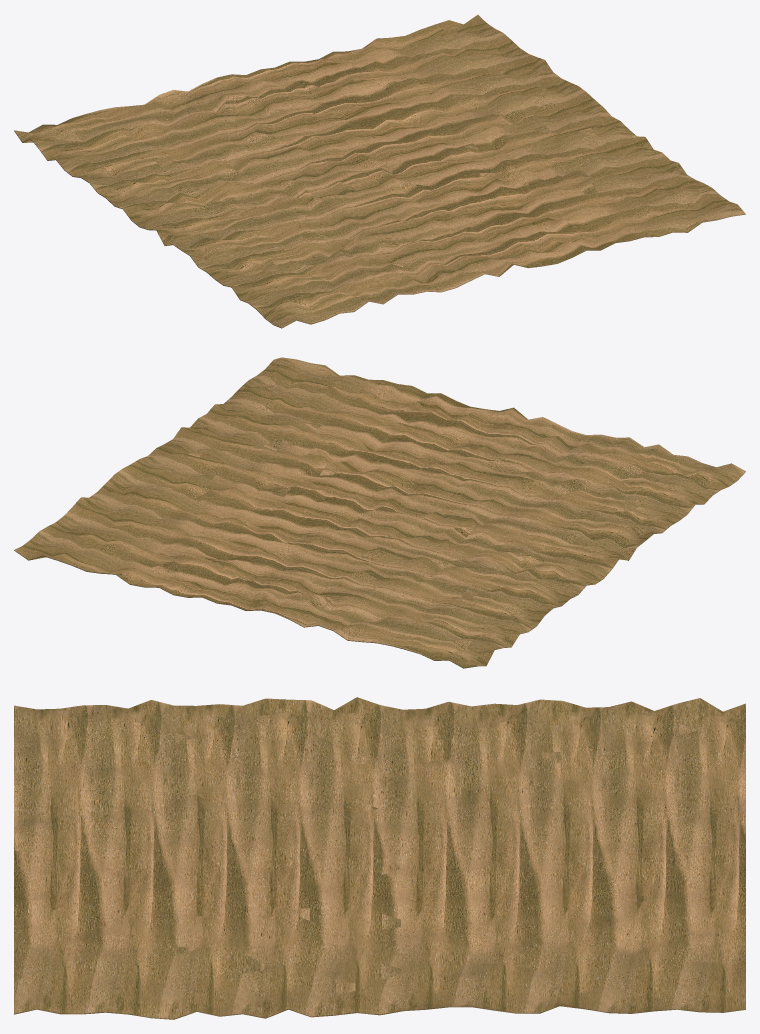
File: Desert stage.FBX
3 renders of one model, top to bottom at view 1: azimuth 30°, elevation 25°; view 2: azimuth 150°, elevation 25°; view 3: azimuth 270°, elevation 25°, orthographic. The views are drawn at different scales.
Parts seen in each view (by area): view 1: Box001; view 2: Box001; view 3: Box001.
Part boxes in pixels (<box>): Box001: <box>14,14,745,328</box>; Box001: <box>14,357,745,668</box>; Box001: <box>14,697,745,1019</box>.
Size of the model in its own units: 8537 by 8537 by 283.
